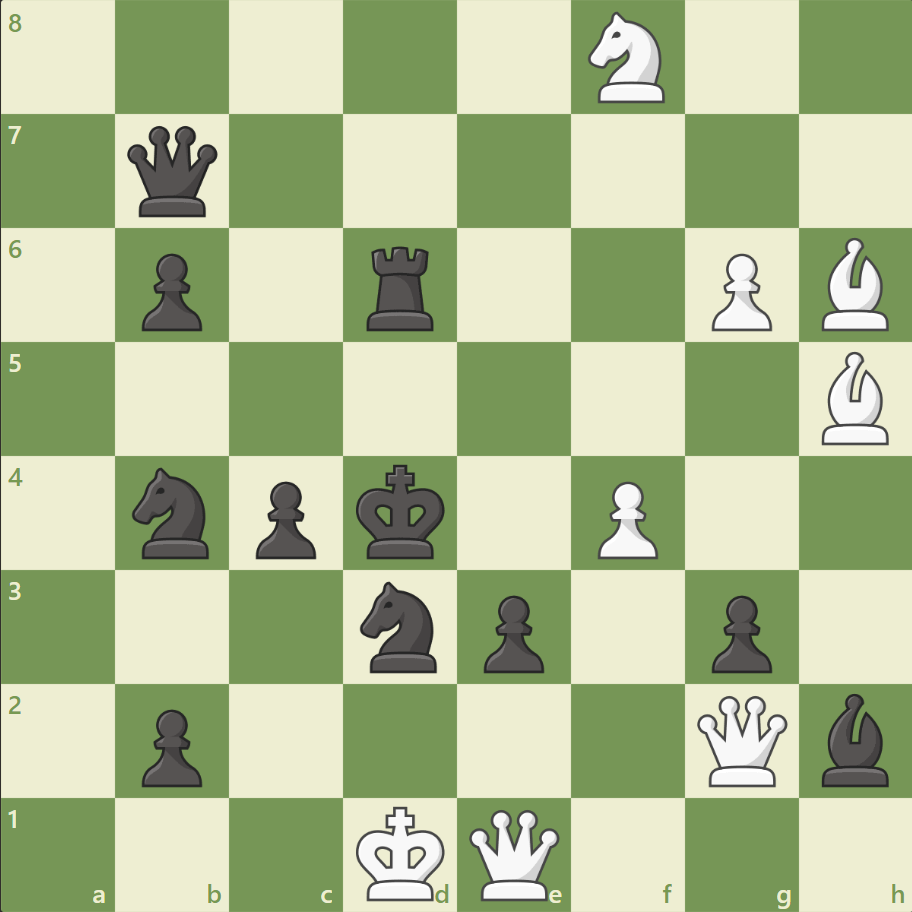B: (812, 233, 896, 336), (812, 347, 896, 449)
K: (351, 798, 451, 906)
N: (579, 7, 676, 110)
P: (701, 246, 776, 337), (588, 473, 662, 564)
Q: (691, 690, 790, 789), (464, 804, 563, 903)
b: (812, 687, 896, 790)
k: (351, 458, 451, 566)
n: (124, 461, 222, 564), (351, 575, 449, 677)
p: (133, 246, 208, 337), (247, 473, 322, 564), (474, 586, 549, 677), (701, 586, 776, 677), (133, 700, 208, 791)
q: (124, 122, 223, 222)
r: (360, 239, 442, 336)
